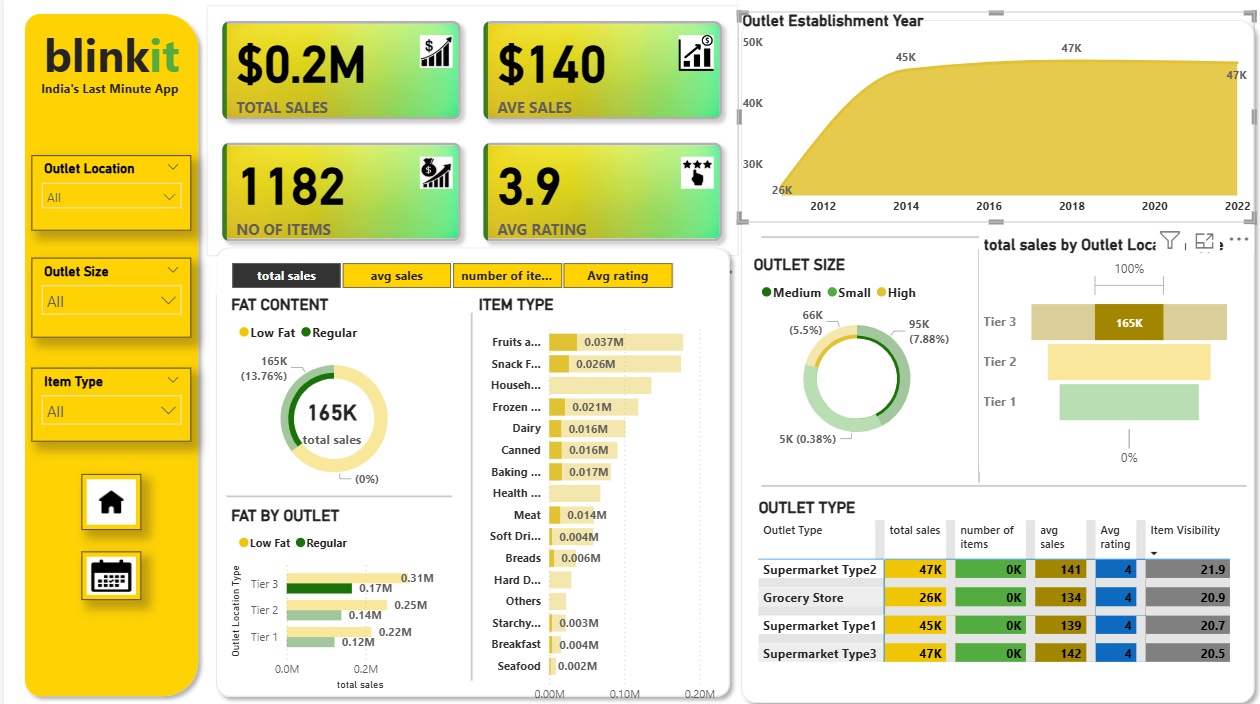

What the dashboard file says about the page in this screenshot:
{"tool":"powerbi","page":{"name":"Page 1","canvas":[1400,800],"ordinal":0},"visuals":[{"type":"shape","box":[13.5,12,204,750],"z":0},{"type":"textbox","box":[13.5,27,204.1,79.5],"z":1000},{"type":"textbox","box":[265.7,12,204.1,106.6],"z":2000},{"type":"textbox","box":[34.5,87.1,204.1,64.5],"z":3000},{"type":"cardVisual","fields":{"Data":["Sum(BlinkIT Grocery Data.Sales)","Avg(BlinkIT Grocery Data.Sales)","BlinkIT Grocery Data.number of items","Avg(BlinkIT Grocery Data.Rating)"]},"box":[217.6,12,570.3,270.2],"z":4000},{"type":"shape","box":[219.1,262.7,568.8,499.8],"z":5000},{"type":"slicer","fields":{"Values":["Matrics.Matrics"]},"box":[219.1,282.2,522.3,40.5],"z":6000},{"type":"donutChart","title":"FAT CONTENT","fields":{"Y":["BlinkIT Grocery Data.total sales"],"Category":["BlinkIT Grocery Data.Item Fat Content"]},"box":[238.6,322.7,231.1,216.1],"z":7000},{"type":"card","fields":{"Values":["BlinkIT Grocery Data.total sales"]},"box":[301.7,415.7,100.6,82.5],"z":8000},{"type":"clusteredBarChart","title":" FAT BY OUTLET","fields":{"Y":["BlinkIT Grocery Data.total sales"],"Category":["BlinkIT Grocery Data.Outlet Location Type"],"Series":["BlinkIT Grocery Data.Item Fat Content"]},"box":[238.6,549.3,241.6,202.6],"z":9000},{"type":"shape","box":[238.6,514.8,241.6,48],"z":10000},{"type":"shape","box":[456.3,342.2,91.6,394.7],"z":11000},{"type":"barChart","title":"  ITEM TYPE","fields":{"Y":["BlinkIT Grocery Data.total sales"],"Category":["BlinkIT Grocery Data.Item Type"]},"box":[504.3,322.7,271.7,445.8],"z":12000},{"type":"shape","box":[781.5,18.8,568.4,750.7],"z":13000},{"type":"lineChart","title":" Outlet Establishment Year","fields":{"Category":["BlinkIT Grocery Data.Outlet Establishment Year"],"Y":["BlinkIT Grocery Data.total sales"]},"box":[786.9,18.8,555,226.5],"z":14000},{"type":"shape","box":[812.3,238.6,520.1,44.2],"z":15000},{"type":"donutChart","title":" OUTLET SIZE","fields":{"Y":["BlinkIT Grocery Data.total sales"],"Category":["BlinkIT Grocery Data.Outlet Size"]},"box":[798.9,280.2,231.9,215.8],"z":15001},{"type":"shape","box":[1000,273.5,91.2,250.7],"z":15002},{"type":"shape","box":[812.3,505.4,520.1,44.2],"z":15003},{"type":"funnel","fields":{"Y":["BlinkIT Grocery Data.total sales"],"Category":["BlinkIT Grocery Data.Outlet Location Type"]},"box":[1045.6,258.7,276.1,253.4],"z":15004},{"type":"pivotTable","title":"OUTLET TYPE","fields":{"Rows":["BlinkIT Grocery Data.Outlet Type"],"Values":["BlinkIT Grocery Data.total sales","BlinkIT Grocery Data.number of items","BlinkIT Grocery Data.avg sales","BlinkIT Grocery Data.Avg rating","Sum(BlinkIT Grocery Data.Item Visibility)"]},"box":[804.3,540.2,522.8,185],"z":15005},{"type":"slicer","fields":{"Values":["BlinkIT Grocery Data.Outlet Location Type"]},"box":[29.5,172.9,171.6,80.4],"z":15006},{"type":"slicer","fields":{"Values":["BlinkIT Grocery Data.Outlet Size"]},"box":[29.5,282.8,171.6,85.8],"z":15007},{"type":"slicer","fields":{"Values":["BlinkIT Grocery Data.Item Type"]},"box":[29.5,400.8,171.6,79.1],"z":15008},{"type":"image","box":[83.1,514.7,64.3,60.3],"z":15009},{"type":"image","box":[83.1,597.9,64.3,52.3],"z":15010}]}

Visuals, with their boxes in screenshot pixels (x1, y1, x2, y2), scaled from the page's 1400x800 canvas onto the 1260x704 screenshot:
shape: select_region(12, 11, 196, 671)
textbox: select_region(12, 24, 196, 94)
textbox: select_region(239, 11, 423, 104)
textbox: select_region(31, 77, 215, 133)
cardVisual - Sum(BlinkIT Grocery Data.Sales) x Avg(BlinkIT Grocery Data.Sales): select_region(196, 11, 709, 248)
shape: select_region(197, 231, 709, 671)
slicer - Matrics.Matrics: select_region(197, 248, 667, 284)
"FAT CONTENT" donutChart: select_region(215, 284, 423, 474)
card - BlinkIT Grocery Data.total sales: select_region(272, 366, 362, 438)
" FAT BY OUTLET" clusteredBarChart: select_region(215, 483, 432, 662)
shape: select_region(215, 453, 432, 495)
shape: select_region(411, 301, 493, 648)
"  ITEM TYPE" barChart: select_region(454, 284, 698, 676)
shape: select_region(703, 17, 1215, 677)
" Outlet Establishment Year" lineChart: select_region(708, 17, 1208, 216)
shape: select_region(731, 210, 1199, 249)
" OUTLET SIZE" donutChart: select_region(719, 247, 928, 436)
shape: select_region(900, 241, 982, 461)
shape: select_region(731, 445, 1199, 484)
funnel - BlinkIT Grocery Data.total sales x BlinkIT Grocery Data.Outlet Location Type: select_region(941, 228, 1190, 451)
"OUTLET TYPE" pivotTable: select_region(724, 475, 1194, 638)
slicer - BlinkIT Grocery Data.Outlet Location Type: select_region(27, 152, 181, 223)
slicer - BlinkIT Grocery Data.Outlet Size: select_region(27, 249, 181, 324)
slicer - BlinkIT Grocery Data.Item Type: select_region(27, 353, 181, 422)
image: select_region(75, 453, 133, 506)
image: select_region(75, 526, 133, 572)
